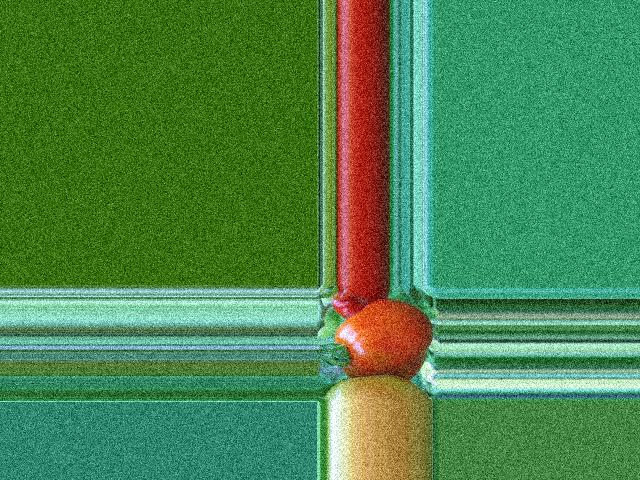tomato: (334, 299, 432, 376)
